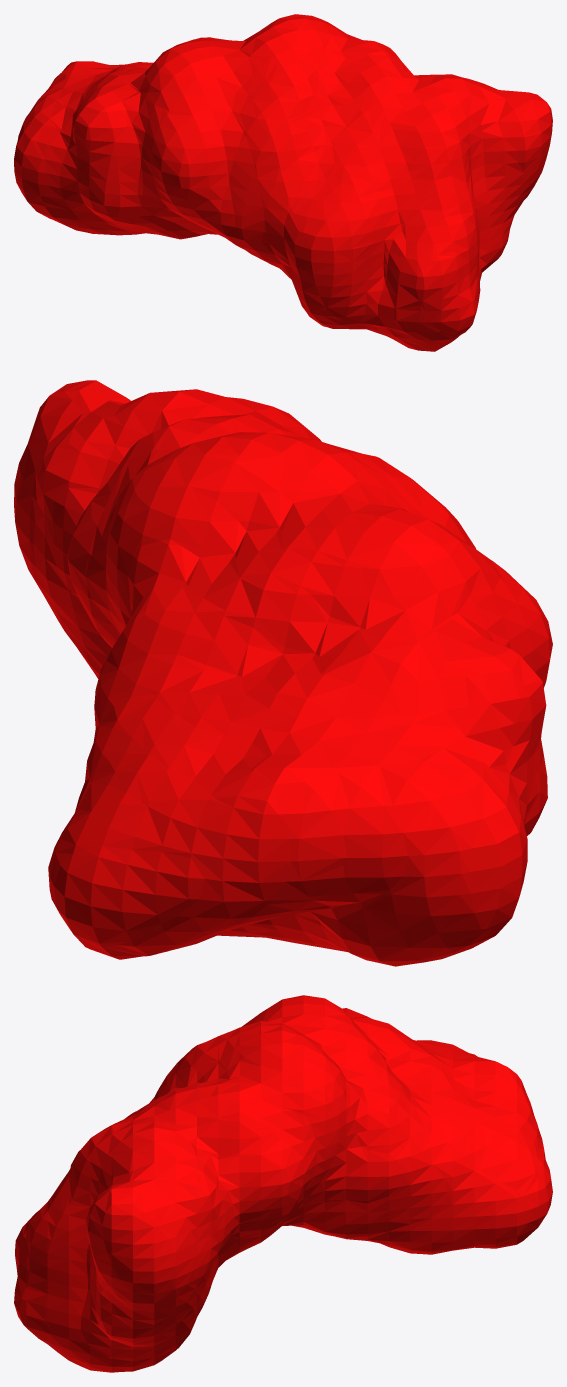
Rendered from manY_coarse.dae.
3 views of the same model, one above another, from view 1: azimuth 30°, elevation 25°; view 2: azimuth 150°, elevation 25°; view 3: azimuth 270°, elevation 25° (orthographic). The views are drawn at different scales.
Visible parts, largest first — view 1: manY; view 2: manY; view 3: manY.
Boxes of the visible parts, <box> form: manY: <box>14,14,552,351</box>; manY: <box>14,380,552,966</box>; manY: <box>14,995,552,1372</box>.
Bounding box in the file's own units: 63.36 × 42.3 × 67.13.
